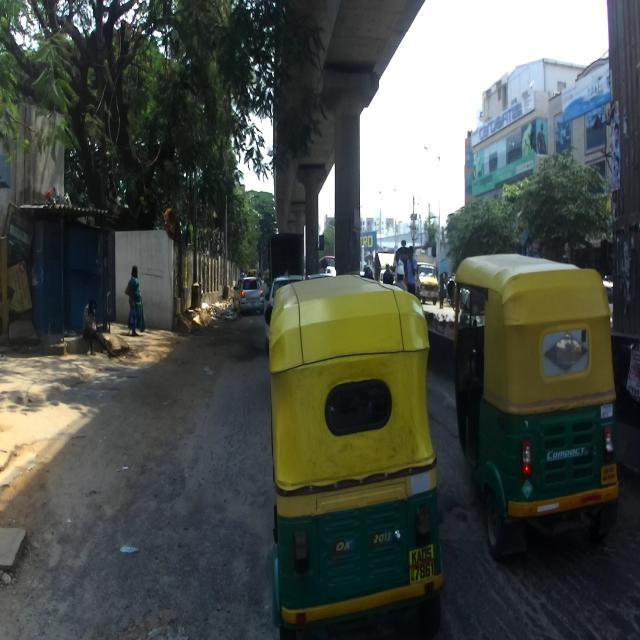autorickshaw: (264, 274, 444, 640), (447, 254, 619, 562)
